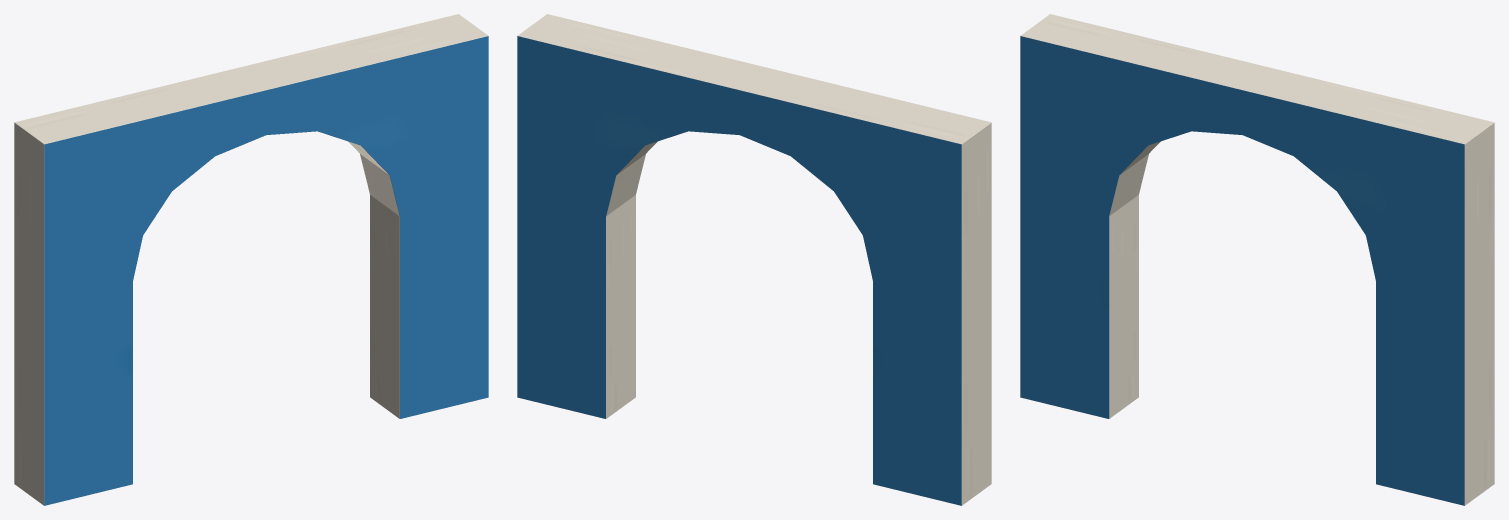
Rendered from town_arch.glb.
The picture shows the model from 3 angles, left to right: view 1: azimuth 30°, elevation 25°; view 2: azimuth 150°, elevation 25°; view 3: azimuth 330°, elevation 25°; orthographic projection.
Visible parts, largest first — view 1: town_arch; view 2: town_arch; view 3: town_arch.
Part boxes in pixels (x1,y1,x2,y2): town_arch: (14, 14, 488, 505); town_arch: (517, 14, 991, 505); town_arch: (1020, 14, 1494, 505).
Bounding box in the file's own units: 3.6 × 2.8 × 0.42.
2 materials, 2 textured.
